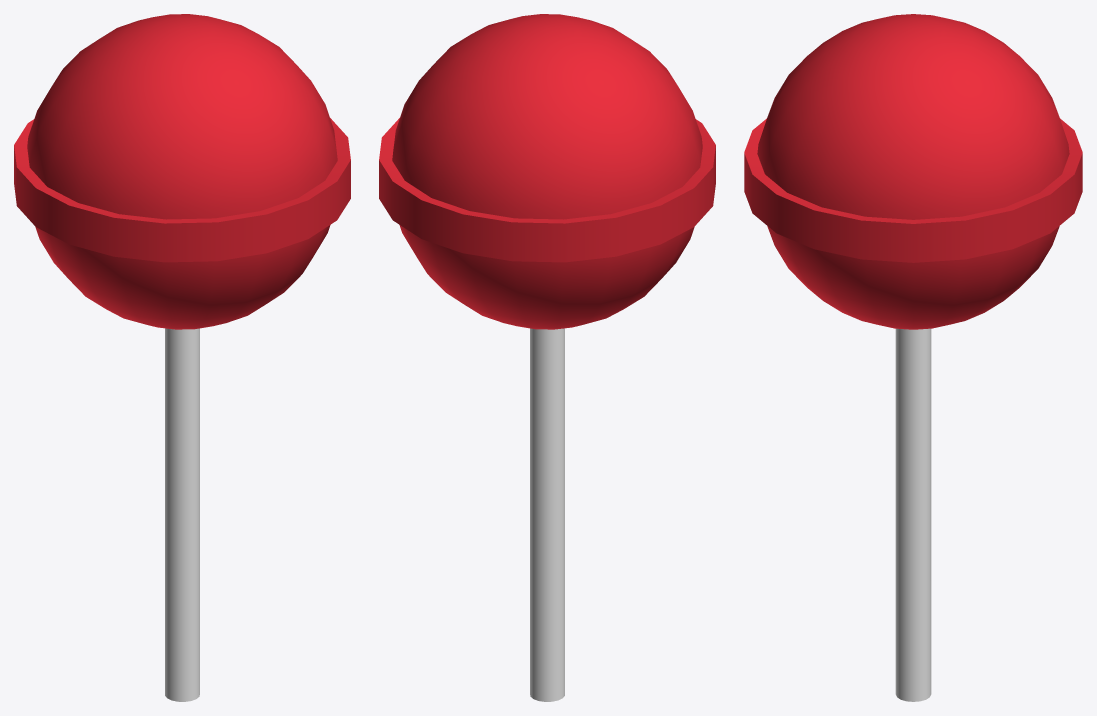
Rendered from Lolipop.fbx.
The picture shows the model from 3 angles, left to right: view 1: azimuth 30°, elevation 25°; view 2: azimuth 150°, elevation 25°; view 3: azimuth 270°, elevation 25°; orthographic projection.
Parts seen in each view (by area): view 1: Lolipop; view 2: Lolipop; view 3: Lolipop.
Part boxes in pixels (bbox=[...]): Lolipop: bbox=[14, 14, 350, 701]; Lolipop: bbox=[379, 14, 715, 701]; Lolipop: bbox=[744, 14, 1082, 701].
Bounding box in the file's own units: 214 × 465 × 214.
